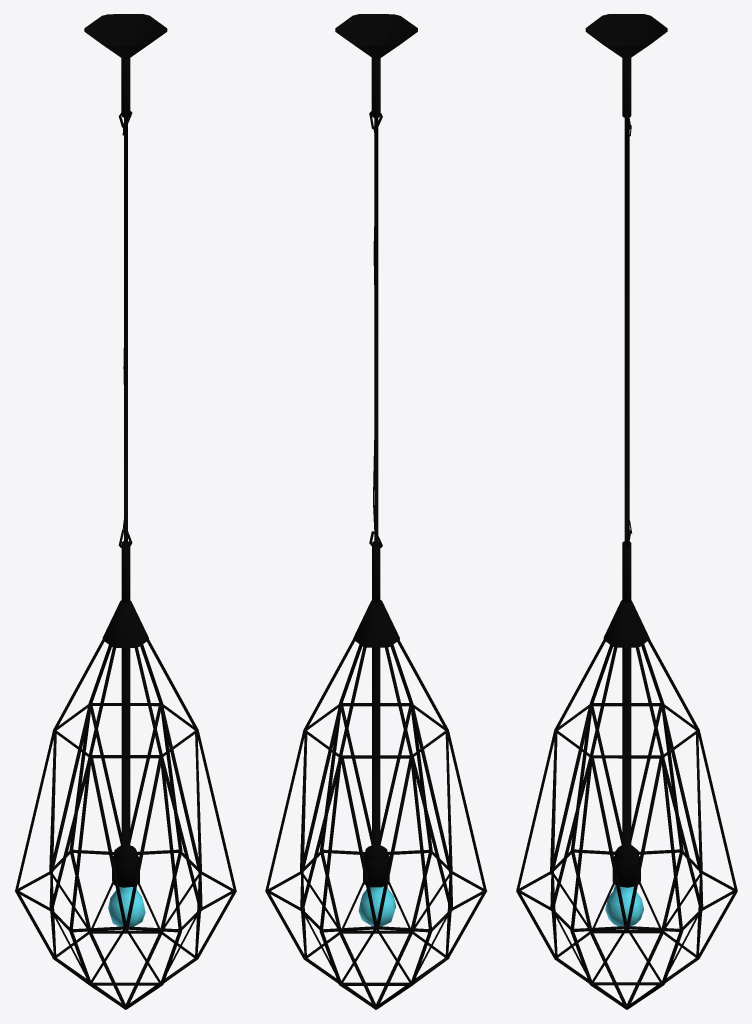
Rendered from SM_Pendantlight_012.FBX.
3 renders of one model, left to right at view 1: azimuth 30°, elevation 25°; view 2: azimuth 150°, elevation 25°; view 3: azimuth 270°, elevation 25°, orthographic.
Visible parts, largest first — view 1: SM_Pendantlight_012; view 2: SM_Pendantlight_012; view 3: SM_Pendantlight_012.
Part boxes in pixels (x1,y1,x2,y2): SM_Pendantlight_012: [15, 14, 236, 1009]; SM_Pendantlight_012: [265, 14, 487, 1009]; SM_Pendantlight_012: [516, 14, 737, 1009].
Bounding box in the file's own units: 22.68 × 26.03 × 127.
